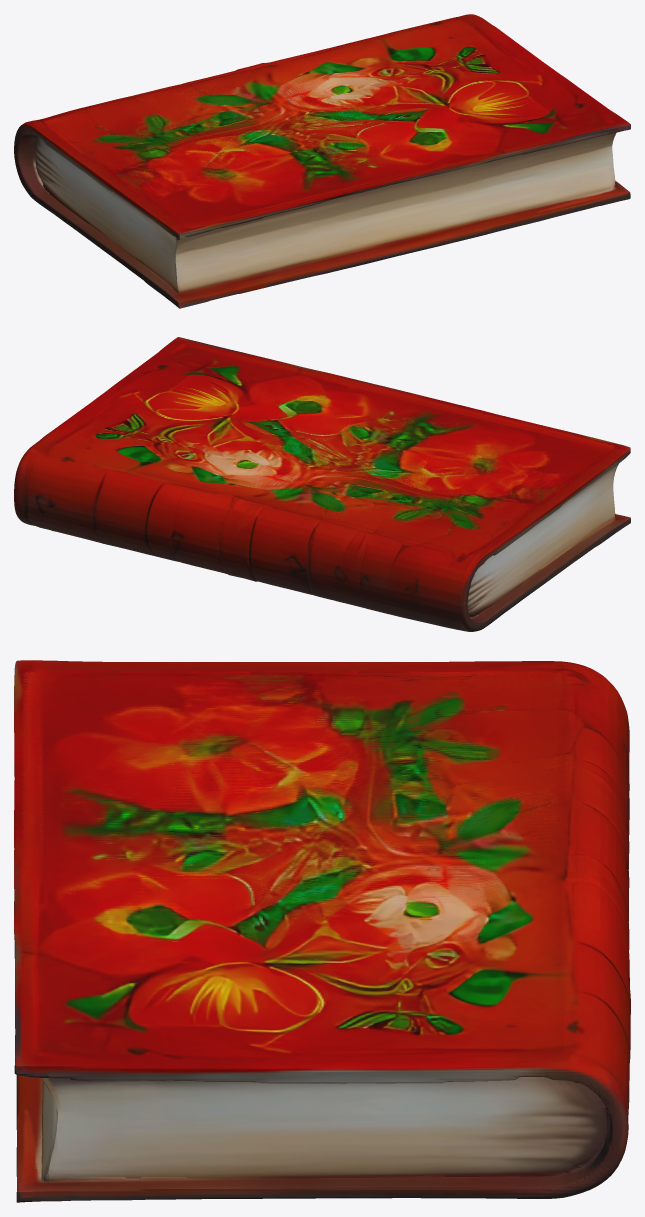
3 renders of one model, top to bottom at view 1: azimuth 30°, elevation 25°; view 2: azimuth 150°, elevation 25°; view 3: azimuth 270°, elevation 25°, orthographic. The views are drawn at different scales.
Visible parts, largest first — view 1: notebook_3.obj; view 2: notebook_3.obj; view 3: notebook_3.obj.
Part boxes in pixels (x1=…): notebook_3.obj: x1=14, y1=14, x2=630, y2=308; notebook_3.obj: x1=14, y1=337, x2=630, y2=631; notebook_3.obj: x1=14, y1=660, x2=630, y2=1202.
Bounding box in the file's own units: 0.1867 × 0.0303 × 0.1199.
Materials: 1 (1 with a texture image).
